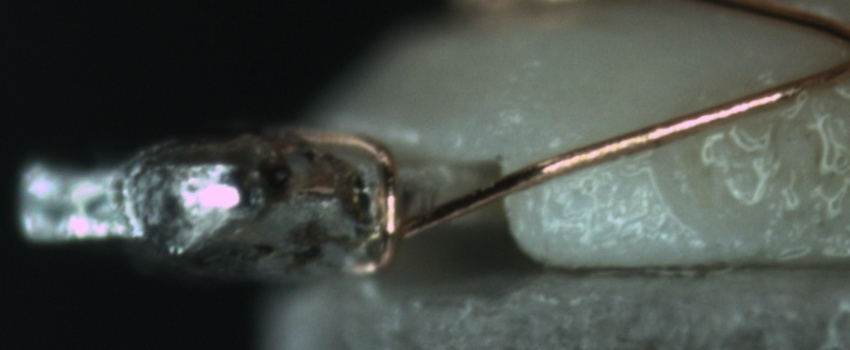TE: (259, 122, 409, 267)
